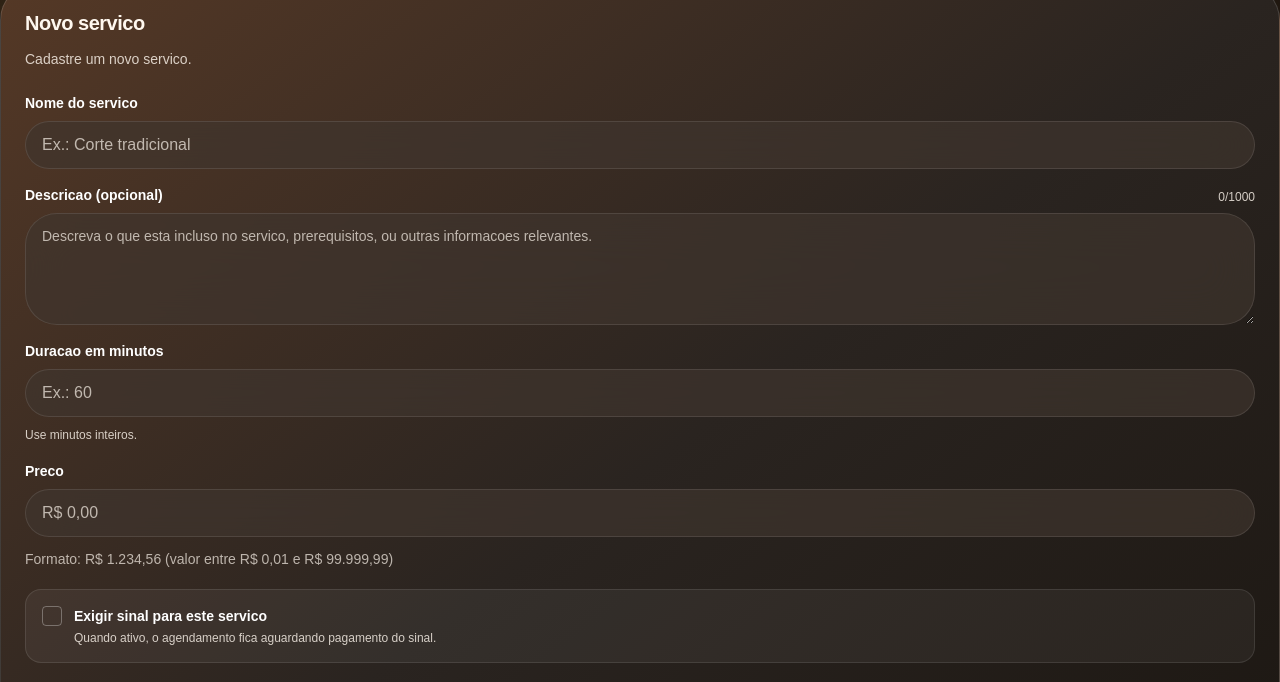
it: ServiceForm › shows deposit type and value only after enabling deposit
Expected: the text "Exigir sinal para este servico" is shown, [74,608,267,624]
Expected: the text "Tipo de sinal" is not shown
Click the checkbox at {"x": 52, "y": 616}, box [42,606,62,626]
(page scrolled)
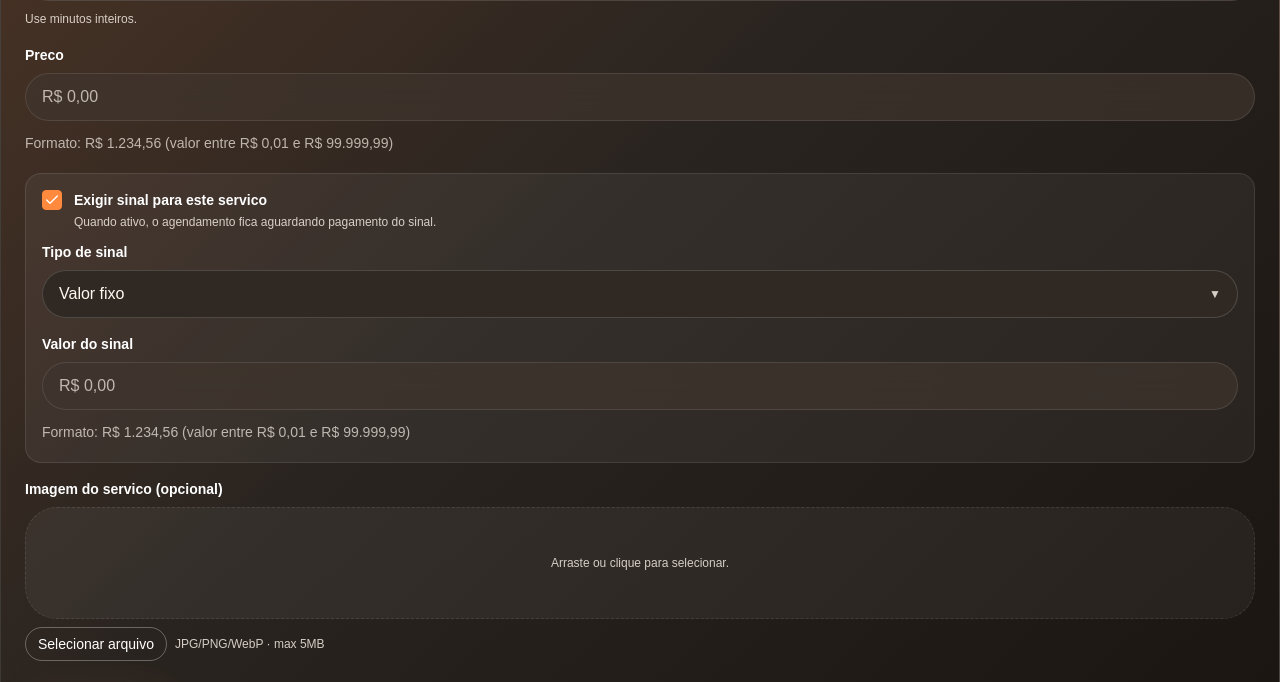
Expected: the text "Tipo de sinal" is shown, [42,244,127,260]
Expected: the text "Valor do sinal" is shown, [42,336,133,352]
